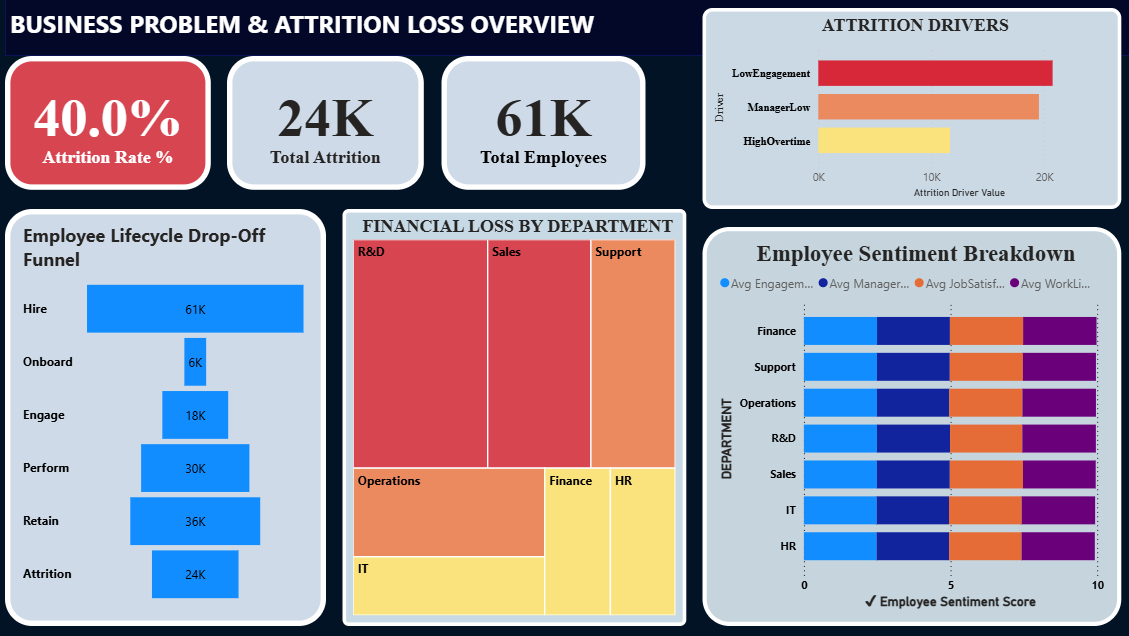

The page's visual inventory and layout, read from the dashboard file:
{"tool":"powerbi","page":{"name":"Page 1","canvas":[1280,720],"ordinal":0},"visuals":[{"type":"card","fields":{"Values":["clean_hr_data.Attrition Rate %"]},"box":[13.3,66.7,228.3,148.3],"z":0},{"type":"textbox","box":[13,0,1267.9,66.4],"z":3},{"type":"card","fields":{"Values":["clean_hr_data.Total Attrition"]},"box":[260,66.7,218.3,148.3],"z":4},{"type":"card","fields":{"Values":["clean_hr_data.Total Employees"]},"box":[498.3,66.7,226.7,148.3],"z":5},{"type":"funnel","title":"Employee Lifecycle Drop-Off Funnel","fields":{"Category":["FunnelStages.Stage"],"Y":["FunnelStages.Funnel Value"]},"box":[13.3,236.7,356.7,463.3],"z":6},{"type":"clusteredBarChart","title":"ATTRITION DRIVERS","fields":{"Category":["AttritionDriver.Driver"],"Y":["AttritionDriver.Attrition Driver Value"]},"box":[788.3,13.3,465,223.3],"z":7},{"type":"treemap","title":"FINANCIAL LOSS BY DEPARTMENT","fields":{"Group":["clean_hr_data.Department"],"Values":["clean_hr_data.Weighted Loss"]},"box":[388.3,236.7,381.7,463.3],"z":8},{"type":"barChart","title":"Employee Sentiment Breakdown","fields":{"Category":["clean_hr_data.Department"],"Y":["clean_hr_data.Avg EngagementScore","clean_hr_data.Avg ManagerRating","clean_hr_data.Avg JobSatisfaction","clean_hr_data.Avg WorkLifeBalance"]},"box":[788.3,256.7,465,443.3],"z":10}]}

Visuals, with their boxes in screenshot pixels (x1, y1, x2, y2), scaled from the page's 1280x720 canvas onto the 1129x636 screenshot:
card - clean_hr_data.Attrition Rate %: 12:59:213:190
textbox: 11:0:1128:59
card - clean_hr_data.Total Attrition: 229:59:422:190
card - clean_hr_data.Total Employees: 440:59:639:190
"Employee Lifecycle Drop-Off Funnel" funnel: 12:209:326:618
"ATTRITION DRIVERS" clusteredBarChart: 695:12:1105:209
"FINANCIAL LOSS BY DEPARTMENT" treemap: 342:209:679:618
"Employee Sentiment Breakdown" barChart: 695:227:1105:618
